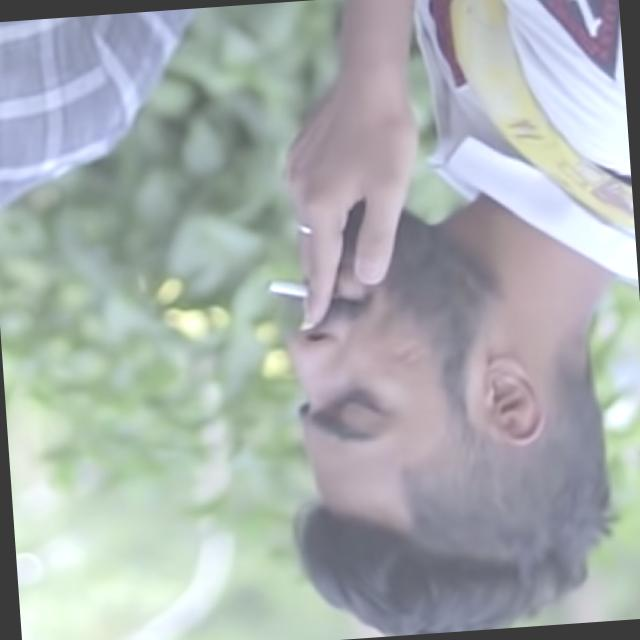cigarette: (228, 248, 320, 310)
